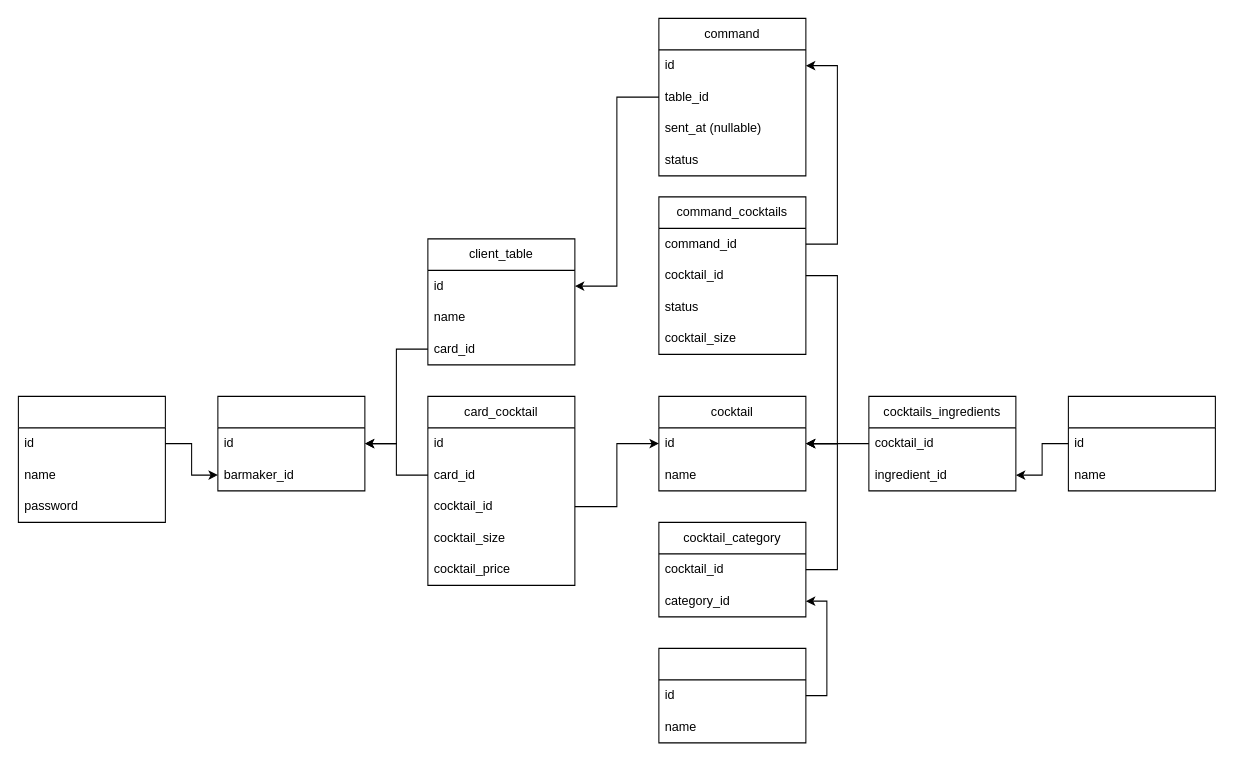
Image size: 1234x761. Some labels were removed from this diagram. Each missing label, with the box of its shape:
barmaker: (17, 395, 165, 522)
card: (217, 395, 365, 491)
category: (658, 647, 806, 743)
ingredient: (1067, 395, 1215, 491)
